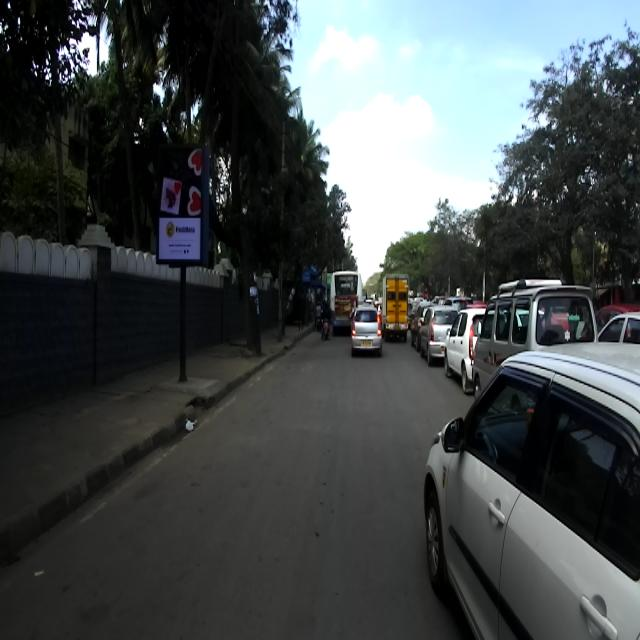barrier ahead at: (150, 143, 221, 391)
car ahead at: (419, 349, 640, 640)
